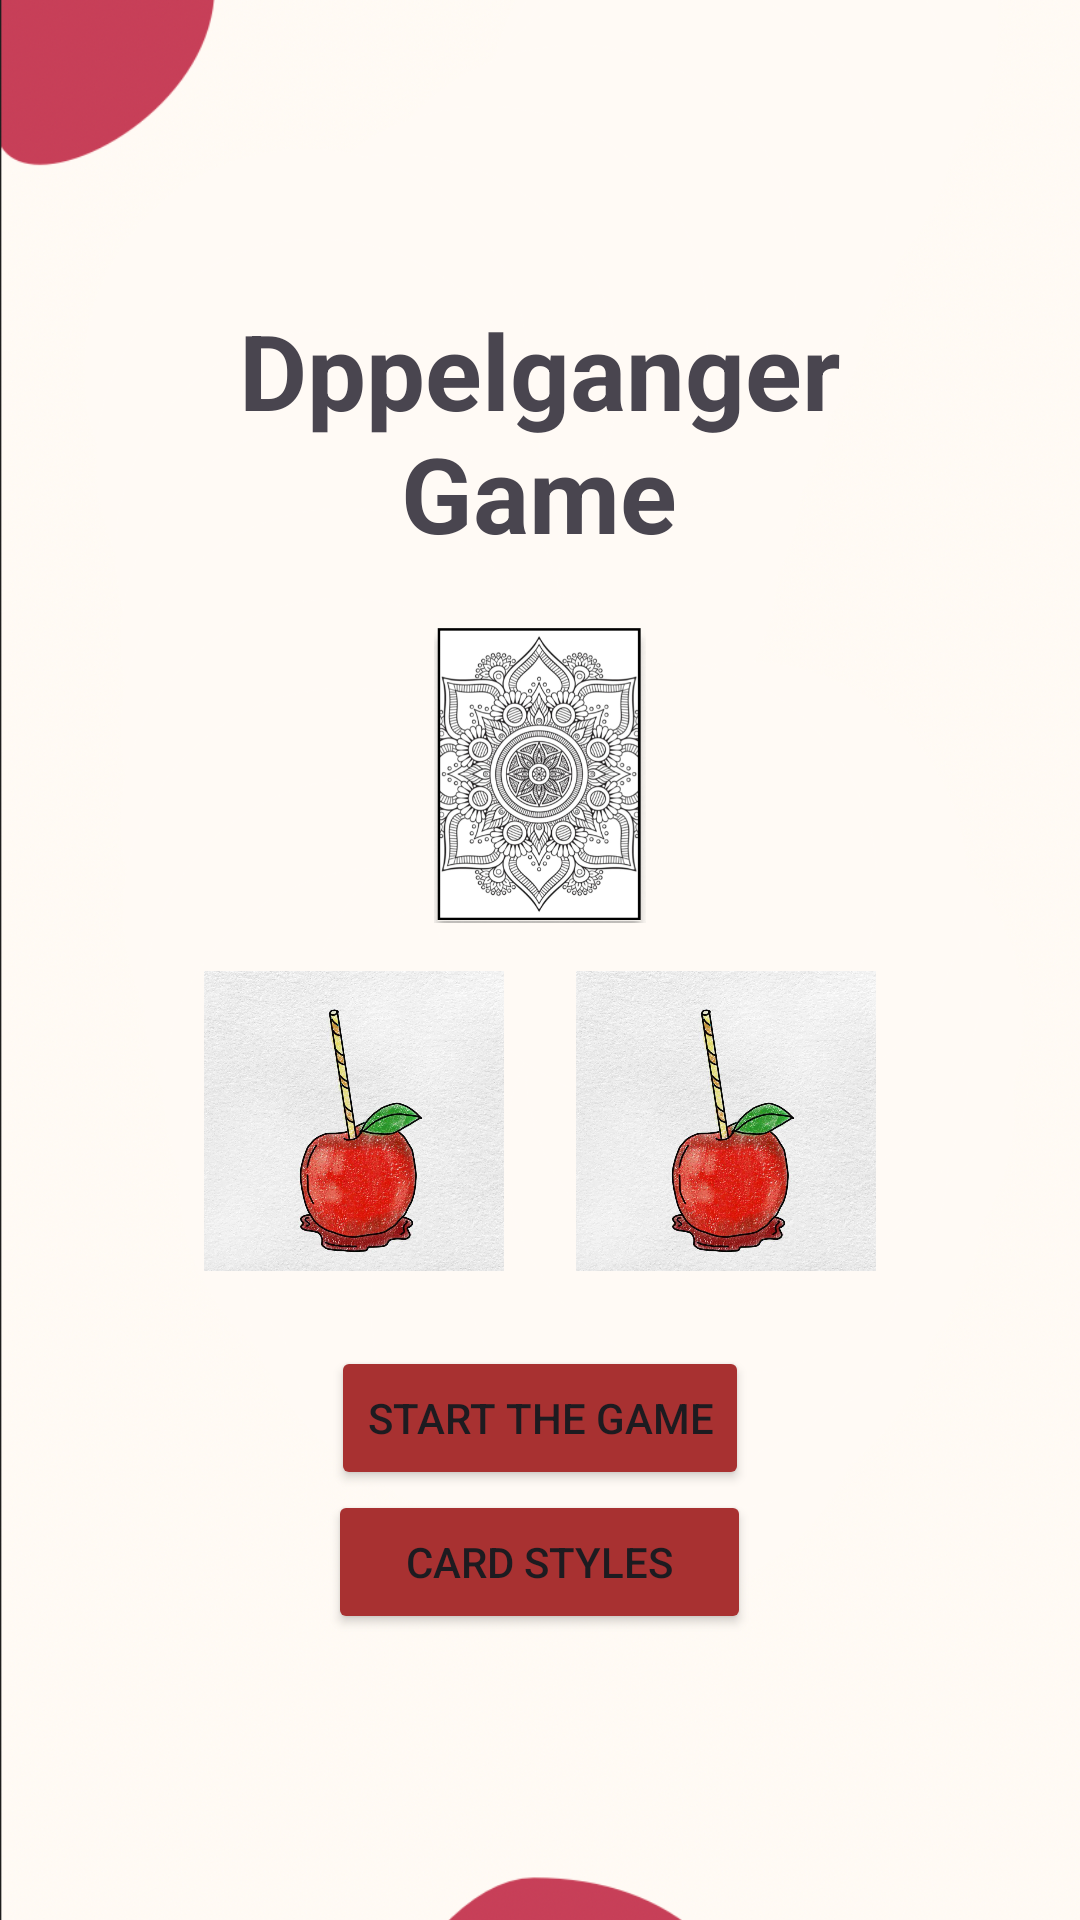

Named icons in this screenshot (1080x1920) and their bounding boxes, [left=x1, top=y1, right=x2, bottom=y2]:
flower: [left=434, top=628, right=646, bottom=923]
